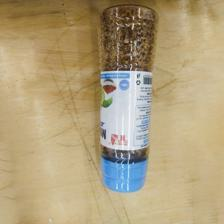TayNinh_blue: (95, 2, 157, 194)
